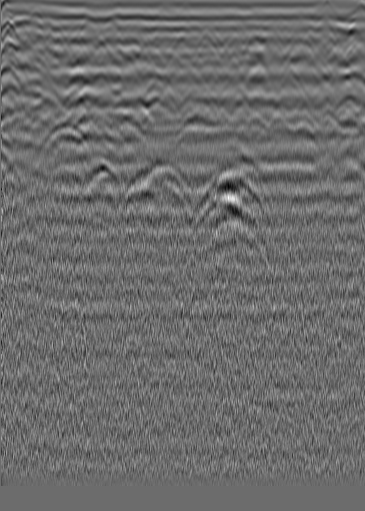가스: (69, 153, 129, 205)
상수: (310, 19, 330, 39)
오수: (35, 15, 55, 35)
우수: (172, 25, 192, 45)
